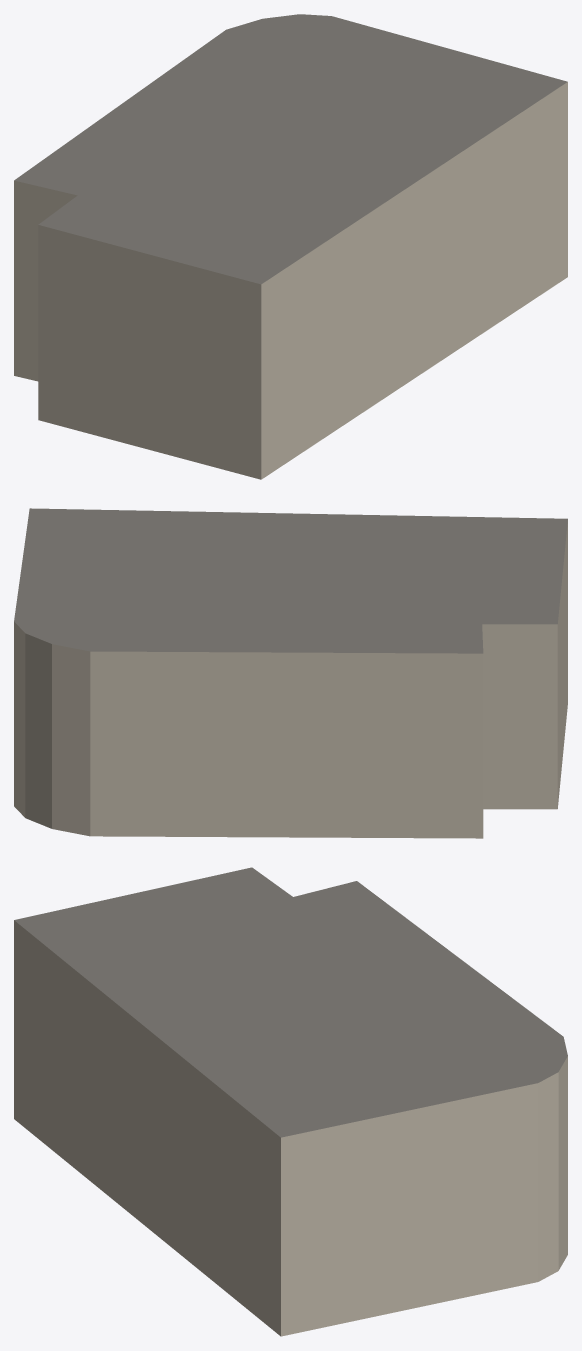
The picture shows the model from 3 angles, top to bottom: view 1: azimuth 30°, elevation 25°; view 2: azimuth 150°, elevation 25°; view 3: azimuth 270°, elevation 25°; orthographic projection. The views are drawn at different scales.
Parts seen in each view (by area): view 1: HP-w373833551; view 2: HP-w373833551; view 3: HP-w373833551.
Part boxes in pixels (<box>): HP-w373833551: <box>14,14,567,479</box>; HP-w373833551: <box>14,508,567,838</box>; HP-w373833551: <box>14,867,567,1336</box>.
Size of the model in its own units: 52.44 by 18 by 45.42.
